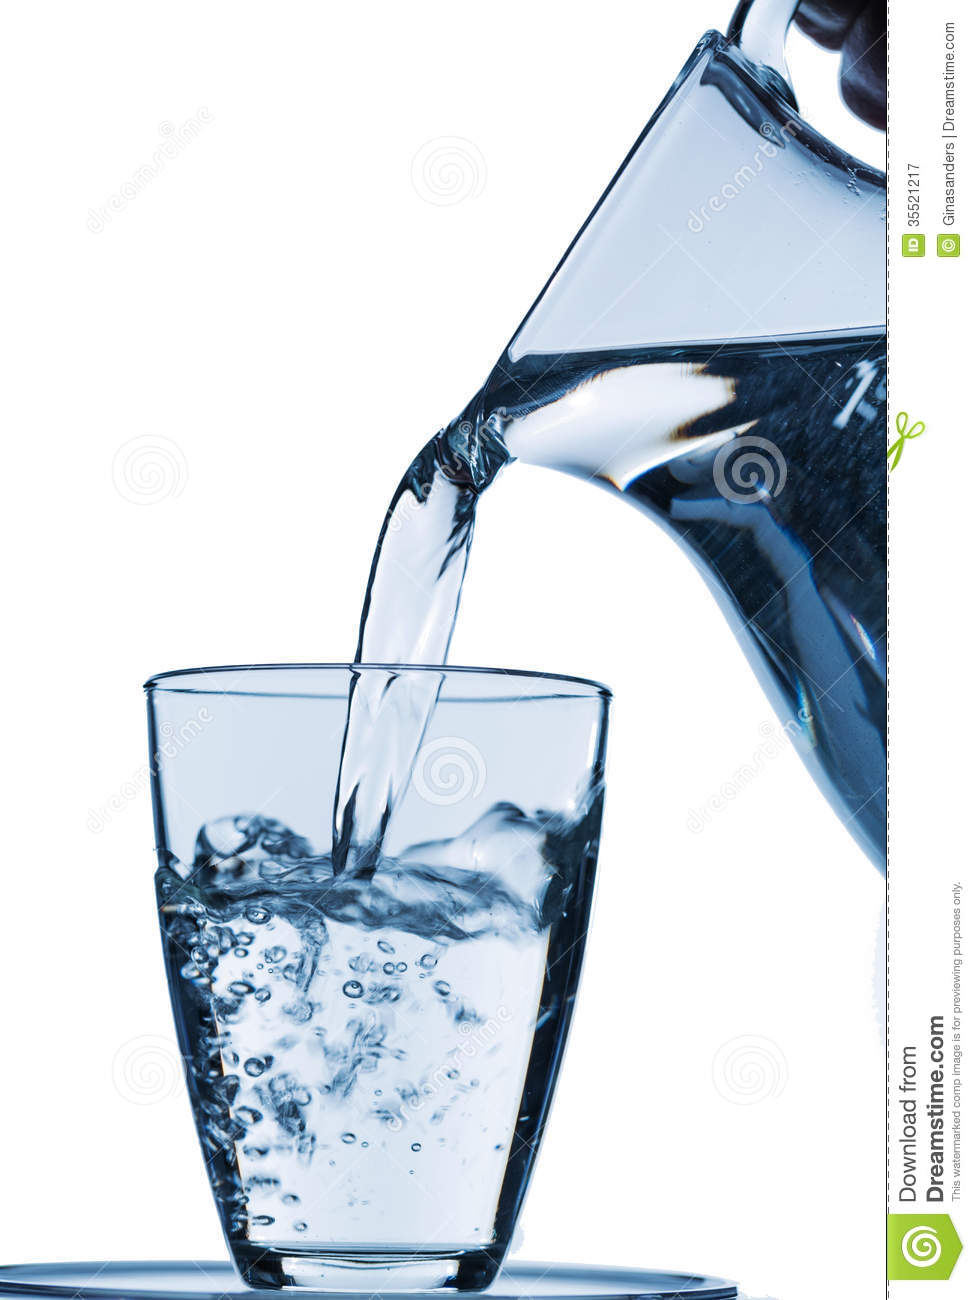glass of water: (173, 657, 589, 1237)
